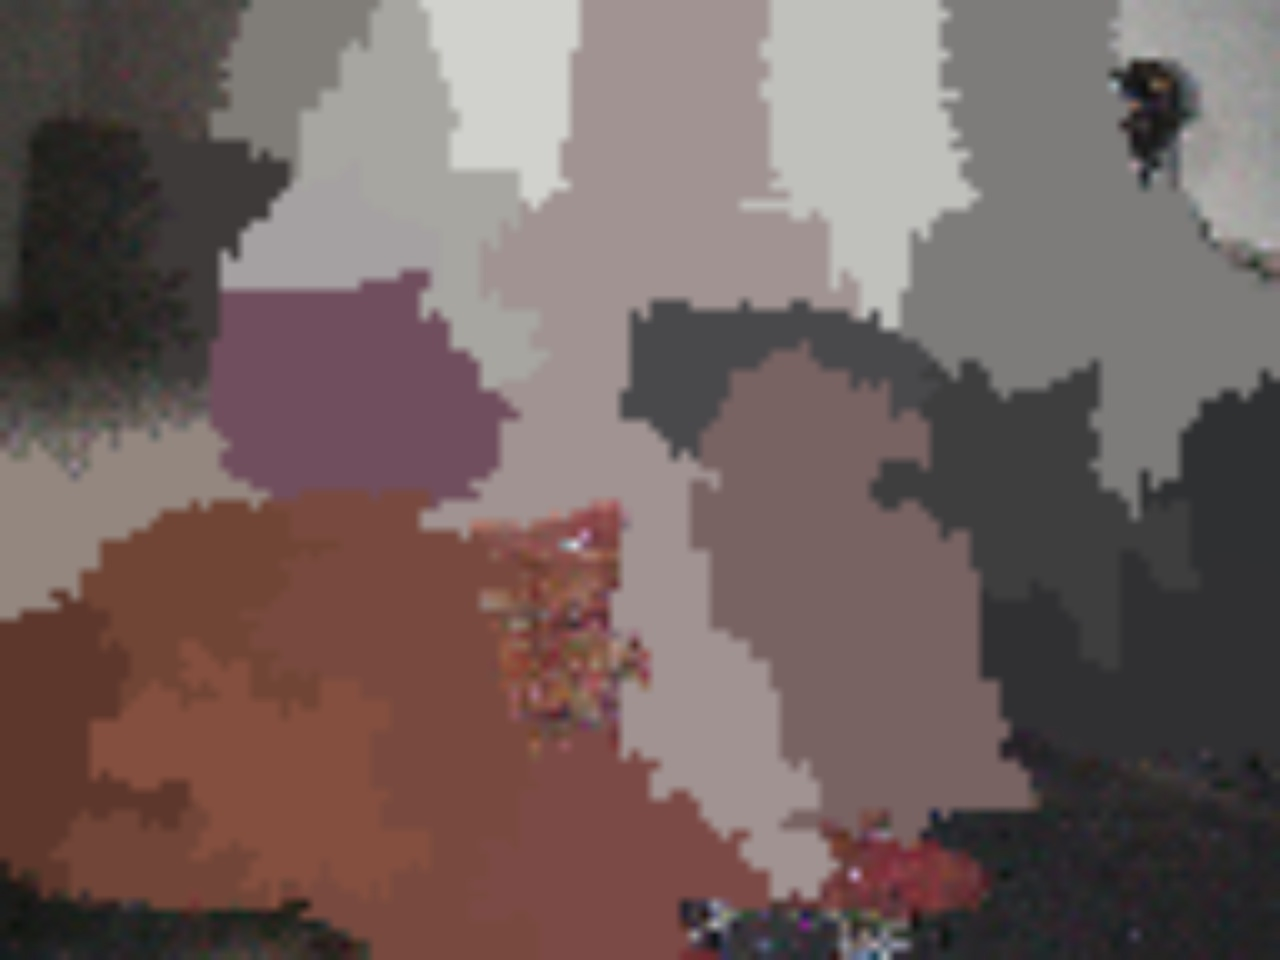washing hand: (49, 214, 1119, 952)
